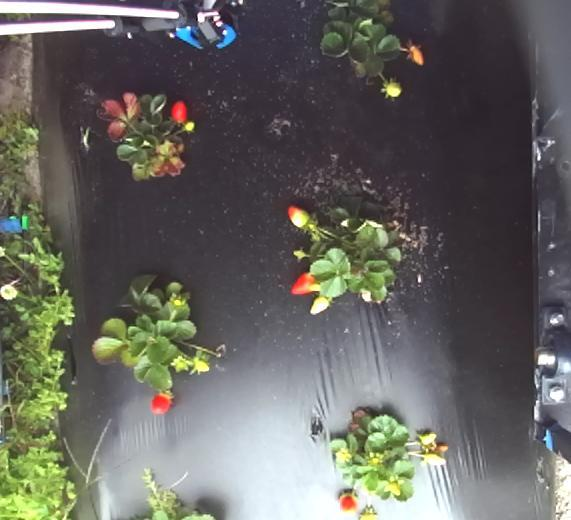leaves: (284, 201, 312, 230), (307, 295, 332, 318), (405, 42, 427, 67), (383, 79, 403, 102), (192, 353, 210, 378), (432, 439, 451, 456), (427, 453, 447, 468), (182, 122, 196, 134)
mature: (97, 91, 138, 140), (151, 148, 190, 182), (147, 389, 174, 416), (291, 271, 316, 298), (168, 97, 189, 125), (336, 490, 358, 512)
